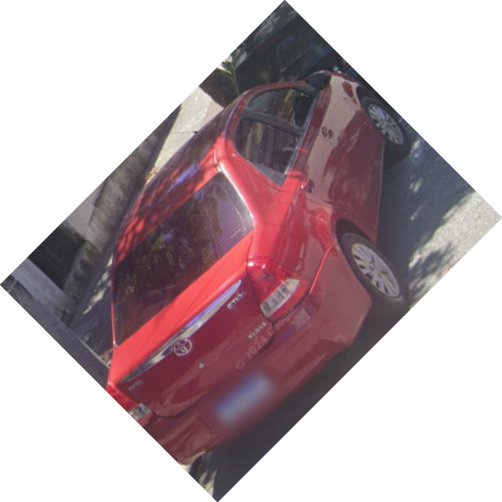car: (104, 69, 410, 462)
